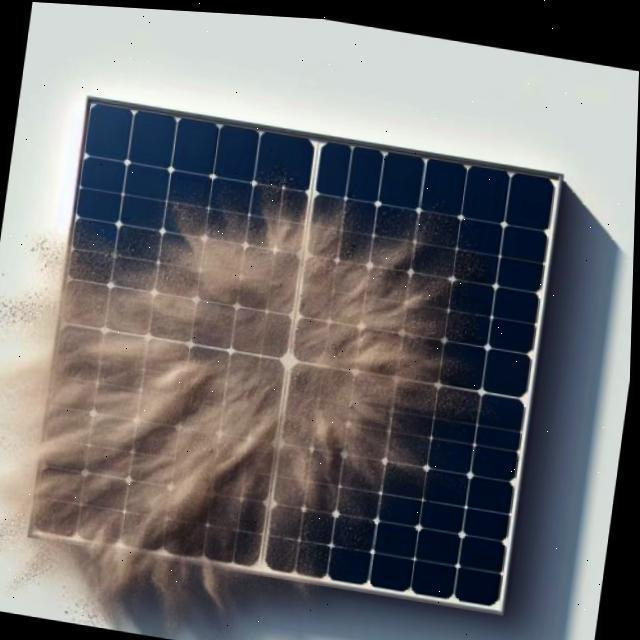Anomaly Solar Panel: (33, 97, 558, 602)
Surface Contaminant: (34, 133, 519, 593)
